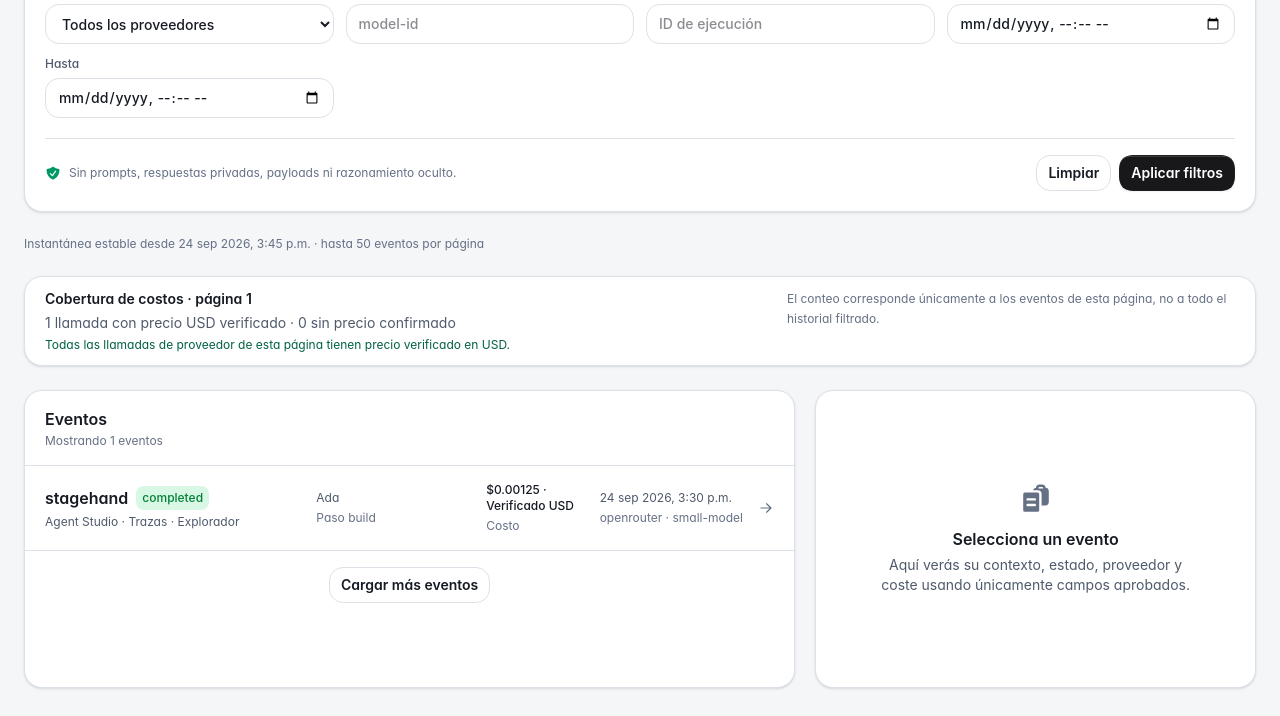
Test: Automation traces page › requests one global, snapshot-cursored endpoint and shows only approved event metadata
(page scrolled)
Click the button "stagehand" at {"x": 87, "y": 498}, box [25,466,794,550]
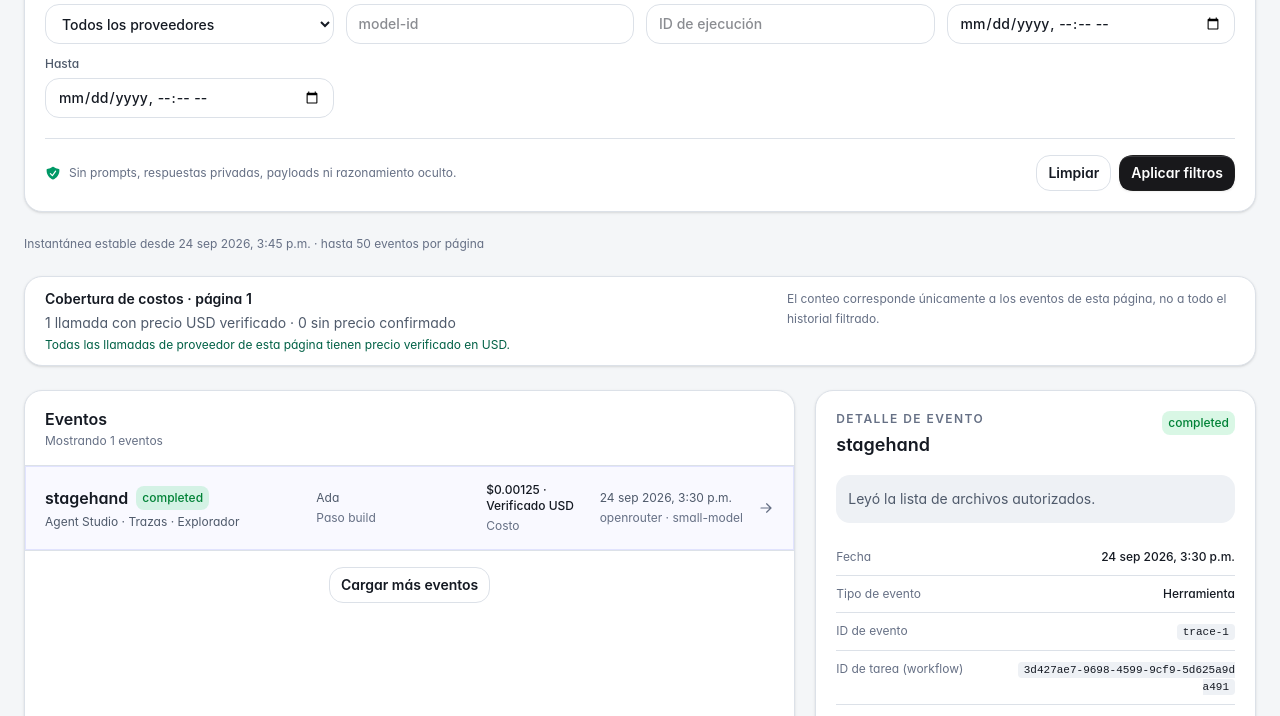
Check: the element named "Cobertura de costos de la página" shows "1 llamada con precio USD verificado · 0 sin precio confirmado", box [24,276,1256,366]
Check: the heading "stagehand" is shown, box [836,434,930,455]
Check: the text "Leyó la lista de archivos autorizados." is shown, box [836,475,1235,523]
